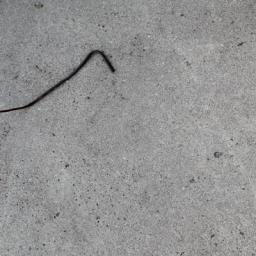FOD: (2, 50, 118, 114)
